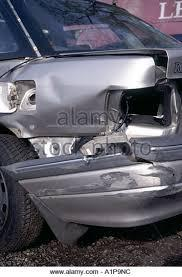quaterpanel-dent: (30, 54, 147, 138)
rear-bumper-dent: (7, 142, 181, 228)
